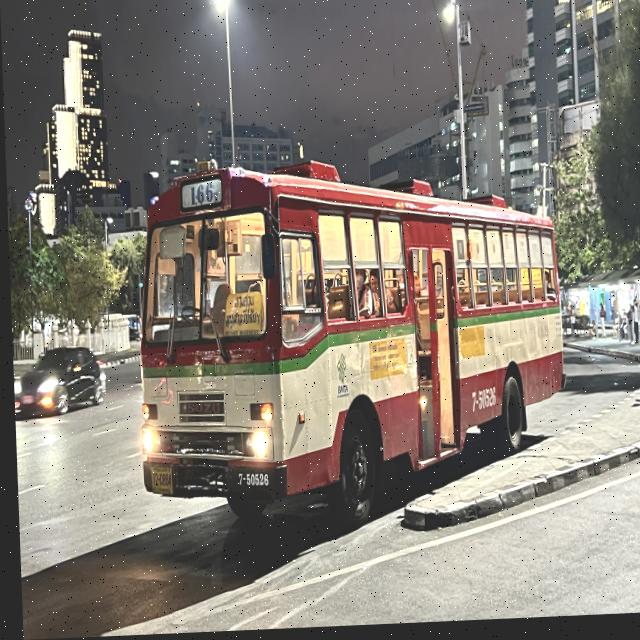BMTA-bus: (126, 148, 567, 540)
Bus-Line-Number: (187, 181, 217, 208)
Destination-Sign-Normal-Expressway: (218, 288, 261, 343)
